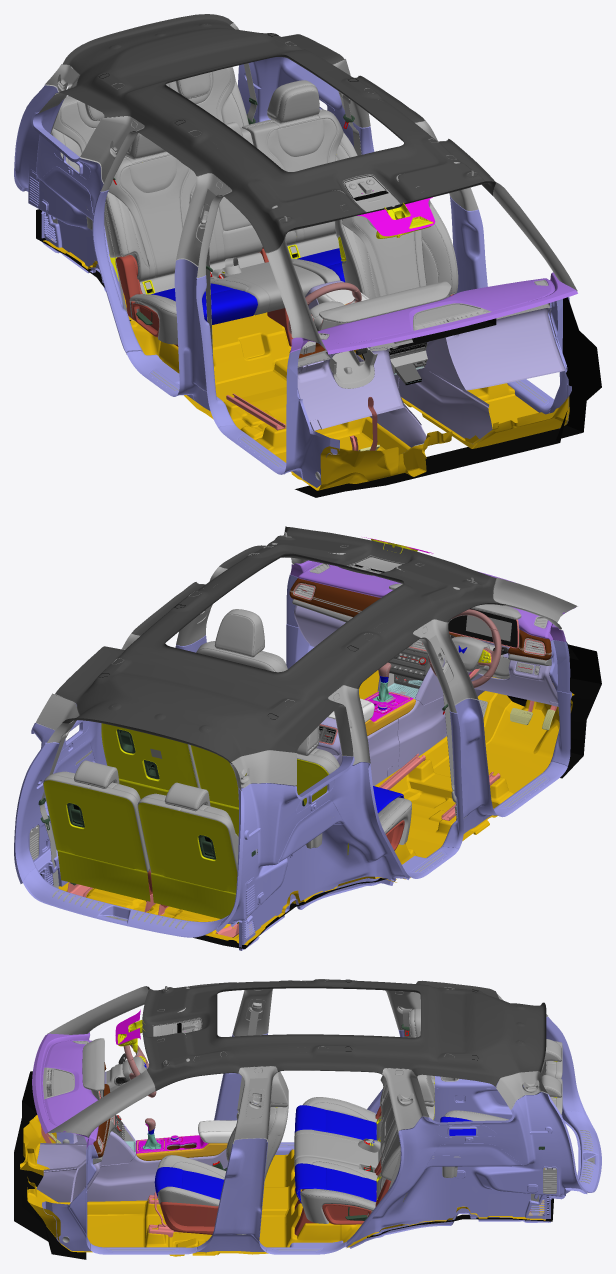
The model's file is XUV700_Interior.glb.
The picture shows the model from 3 angles, top to bottom: view 1: azimuth 30°, elevation 25°; view 2: azimuth 150°, elevation 25°; view 3: azimuth 270°, elevation 25°; orthographic projection. The views are drawn at different scales.
Visible parts, largest first — view 1: XUV700_IN_BODY_MESH, Seat, XUV700_IN_ROOF_7S_MESH, XUV700_IN_DASHBOARD_MESH, XUV700_IN_INFO_AX7_TECH_COMF_LUX_AX5_AX3_MESH, XUV700_IN_CONSOLE_MESH.001, XUV700_IN_STEERING_AX7_CONF_TECH_LUX_MESH, XUV700_IN_ROOF_IRVM_AX7_COMF_TECH_LUX_MESH, XUV700_IN_CONSOLE_USB_AX7_CONF_TECH_LUX_MESH, XUV700_IN_BODY_DSG_MESH, XUV700_IN_BODY_D_PILLAR_7_SEATER_MESH, XUV700_IN_DASH_LOWER_PANEL_AX7_TECH_COMF_LUX_MESH; view 2: XUV700_IN_BODY_MESH, XUV700_IN_ROOF_7S_MESH, Seat, XUV700_IN_DASHBOARD_MESH, XUV700_IN_CONSOLE_MESH.001, XUV700_IN_INFO_AX7_TECH_COMF_LUX_AX5_AX3_MESH, XUV700_IN_BODY_D_PILLAR_7_SEATER_MESH, XUV700_IN_DASH_TRIM_AX7_TECH_COMF_LUX_MESH, XUV700_IN_CONSOLE_GEAR_AT_TECH_LUX_MESH, XUV700_IN_STEERING_AX7_CONF_TECH_LUX_MESH, XUV700_IN_CONSOLE_USB_AX7_CONF_TECH_LUX_MESH, XUV700_IN_STEERING_MESH.001 (+3 smaller); view 3: XUV700_IN_BODY_MESH, XUV700_IN_ROOF_7S_MESH, Seat, XUV700_IN_CONSOLE_MESH.001, XUV700_IN_DASHBOARD_MESH, XUV700_IN_INFO_AX7_TECH_COMF_LUX_AX5_AX3_MESH, XUV700_IN_CONSOLE_GEAR_AT_TECH_LUX_MESH, XUV700_IN_BODY_D_PILLAR_7_SEATER_MESH, XUV700_IN_STEERING_AX7_CONF_TECH_LUX_MESH, XUV700_IN_CONSOLE_ARMREST_AX7_CONF_TECH_LUX_MESH, XUV700_IN_ROOF_IRVM_AX7_COMF_TECH_LUX_MESH, XUV700_IN_BODY_DSG_MESH (+1 smaller).
Boxes of the visible parts, x1,y1,x2,y2 form: XUV700_IN_BODY_MESH: [14, 57, 577, 490]; Seat: [50, 63, 458, 355]; XUV700_IN_ROOF_7S_MESH: [55, 14, 496, 252]; XUV700_IN_DASHBOARD_MESH: [286, 280, 601, 497]; XUV700_IN_INFO_AX7_TECH_COMF_LUX_AX5_AX3_MESH: [290, 272, 577, 354]; XUV700_IN_CONSOLE_MESH.001: [305, 280, 492, 447]; XUV700_IN_STEERING_AX7_CONF_TECH_LUX_MESH: [288, 282, 377, 388]; XUV700_IN_ROOF_IRVM_AX7_COMF_TECH_LUX_MESH: [357, 197, 435, 236]; XUV700_IN_CONSOLE_USB_AX7_CONF_TECH_LUX_MESH: [388, 342, 428, 385]; XUV700_IN_BODY_DSG_MESH: [149, 369, 549, 468]; XUV700_IN_BODY_D_PILLAR_7_SEATER_MESH: [38, 23, 298, 113]; XUV700_IN_DASH_LOWER_PANEL_AX7_TECH_COMF_LUX_MESH: [297, 303, 551, 367]; XUV700_IN_BODY_MESH: [14, 526, 577, 950]; XUV700_IN_ROOF_7S_MESH: [55, 526, 505, 764]; Seat: [38, 609, 453, 937]; XUV700_IN_DASHBOARD_MESH: [286, 563, 601, 778]; XUV700_IN_CONSOLE_MESH.001: [316, 658, 484, 785]; XUV700_IN_INFO_AX7_TECH_COMF_LUX_AX5_AX3_MESH: [290, 560, 575, 648]; XUV700_IN_BODY_D_PILLAR_7_SEATER_MESH: [36, 693, 297, 790]; XUV700_IN_DASH_TRIM_AX7_TECH_COMF_LUX_MESH: [289, 578, 551, 660]; XUV700_IN_CONSOLE_GEAR_AT_TECH_LUX_MESH: [363, 662, 415, 735]; XUV700_IN_STEERING_AX7_CONF_TECH_LUX_MESH: [428, 609, 510, 687]; XUV700_IN_CONSOLE_USB_AX7_CONF_TECH_LUX_MESH: [387, 649, 430, 688]; XUV700_IN_STEERING_MESH.001: [449, 634, 508, 678]; XUV700_IN_BODY_MESH: [20, 983, 601, 1256]; XUV700_IN_ROOF_7S_MESH: [142, 979, 546, 1090]; Seat: [148, 1008, 562, 1237]; XUV700_IN_CONSOLE_MESH.001: [36, 1122, 228, 1202]; XUV700_IN_DASHBOARD_MESH: [14, 1038, 114, 1259]; XUV700_IN_INFO_AX7_TECH_COMF_LUX_AX5_AX3_MESH: [32, 1032, 103, 1148]; XUV700_IN_CONSOLE_GEAR_AT_TECH_LUX_MESH: [135, 1118, 227, 1160]; XUV700_IN_BODY_D_PILLAR_7_SEATER_MESH: [496, 994, 547, 1109]; XUV700_IN_STEERING_AX7_CONF_TECH_LUX_MESH: [106, 1044, 156, 1097]; XUV700_IN_CONSOLE_ARMREST_AX7_CONF_TECH_LUX_MESH: [198, 1120, 237, 1143]; XUV700_IN_ROOF_IRVM_AX7_COMF_TECH_LUX_MESH: [115, 1009, 144, 1046]; XUV700_IN_BODY_DSG_MESH: [106, 1143, 322, 1252].
Bounding box in the file's own units: 1.58 × 1.28 × 3.46.
